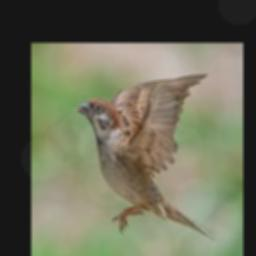Sparrow: (74, 73, 215, 239)
